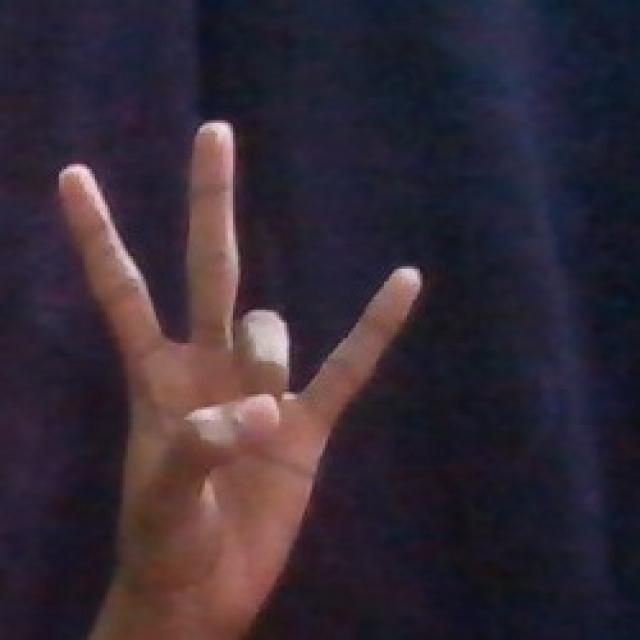Numeric-7: (49, 110, 424, 606)
